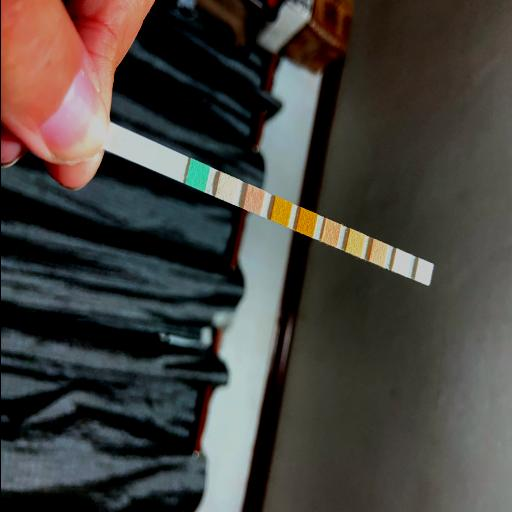Bilirubin: (218, 176, 232, 200)
Blood: (298, 213, 314, 233)
Glucose: (189, 164, 205, 186)
Ketone: (246, 190, 262, 212)
Leukocytes: (418, 262, 428, 282)
Nitrite: (394, 252, 406, 272)
Protein: (348, 233, 362, 253)
SpGravity: (274, 200, 286, 222)
Urobilinogen: (371, 244, 385, 262)
pH: (324, 223, 338, 243)
strip: (115, 127, 433, 287)
